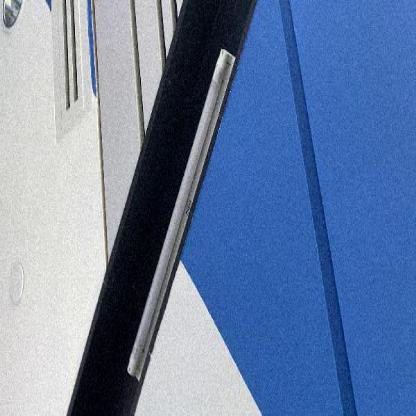light_off: (121, 38, 240, 385)
